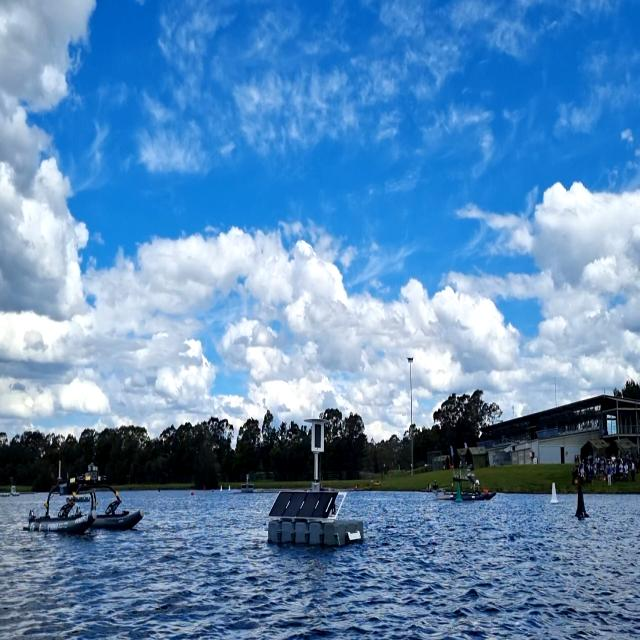led: (312, 422, 323, 451)
